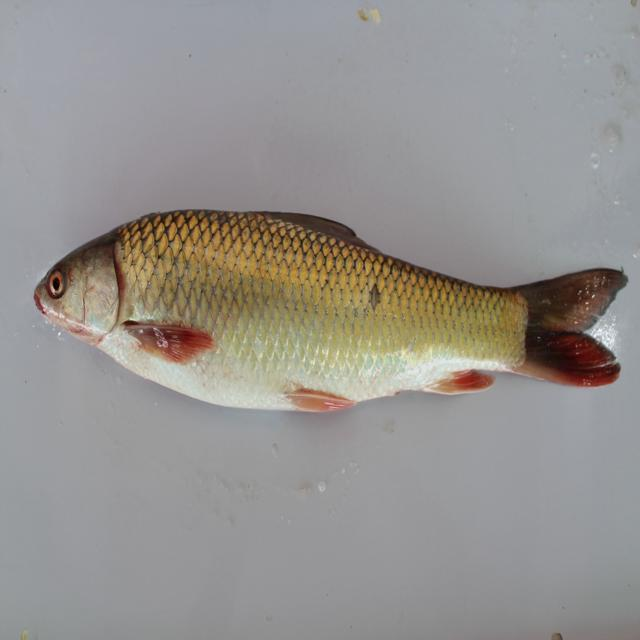Mori: (30, 198, 640, 446)
